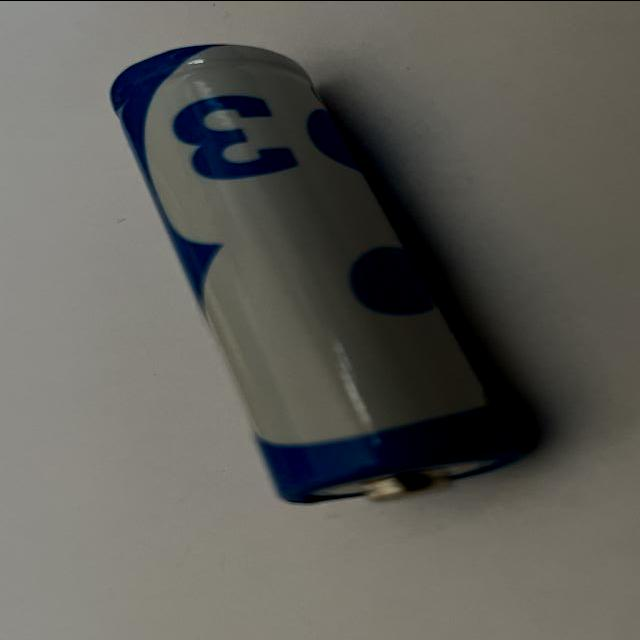AA: (106, 42, 532, 504)
